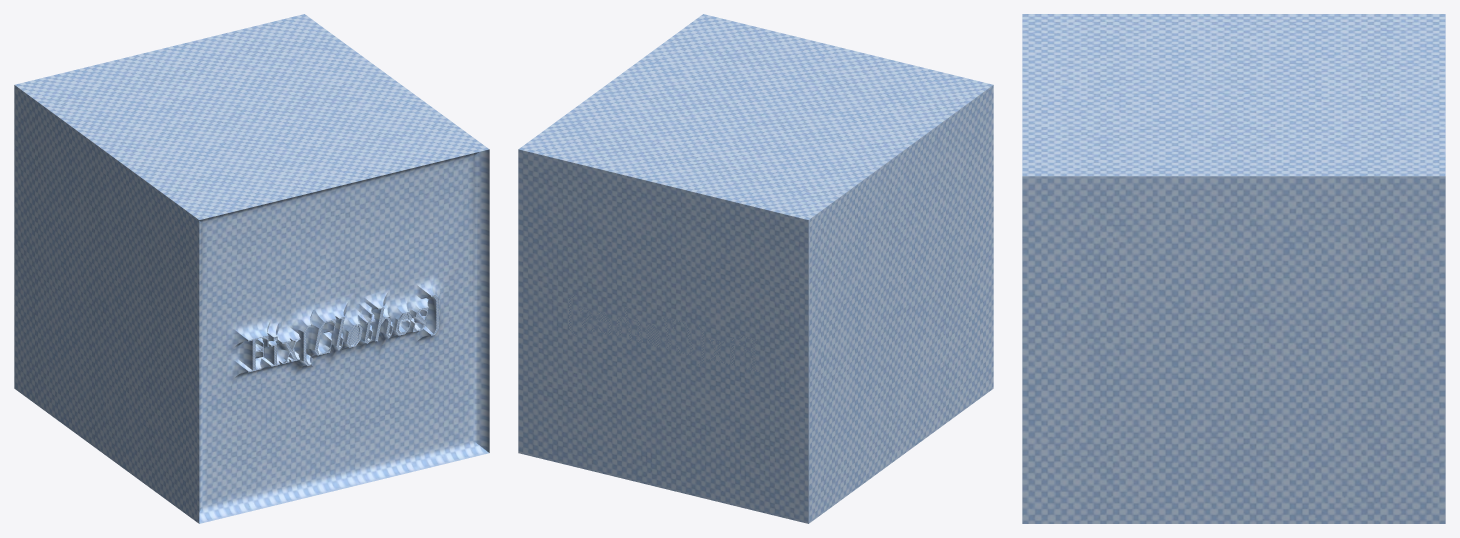
The model's file is clothes.gltf.
The picture shows the model from 3 angles, left to right: view 1: azimuth 30°, elevation 25°; view 2: azimuth 150°, elevation 25°; view 3: azimuth 270°, elevation 25°; orthographic projection. The views are drawn at different scales.
Bounding box in the file's own units: 0.1673 × 0.1673 × 0.1846.
1 material, 1 textured.
